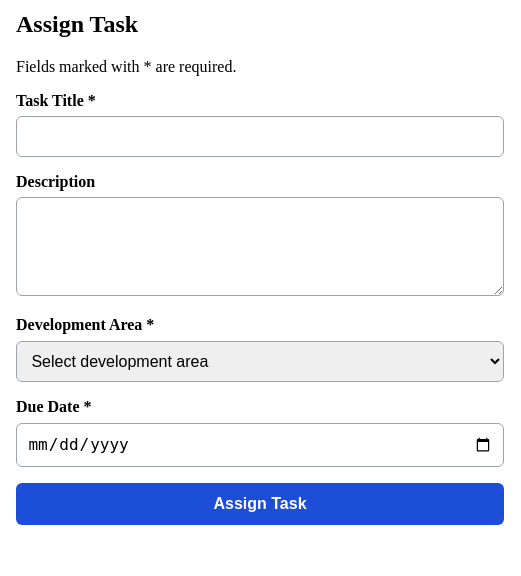
TaskForm › shows a server error for HTTP 500
Type "Read a book" into the field labelled "Task Title *" at (260, 137), box [16,116,504,157]
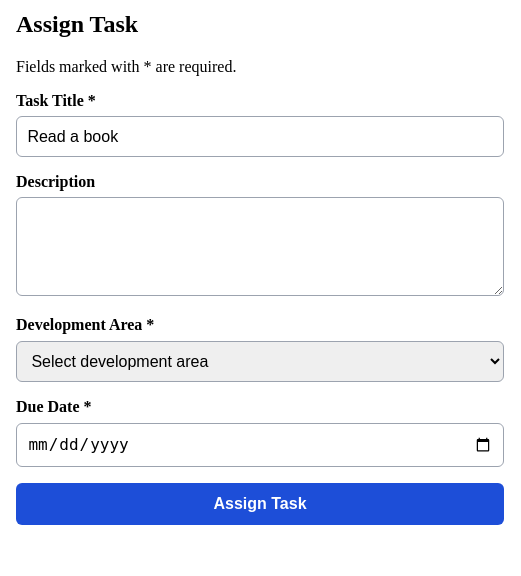
Type "Read for 15 minutes" into the text box labelled "Description" at (260, 247), box [16,197,504,296]
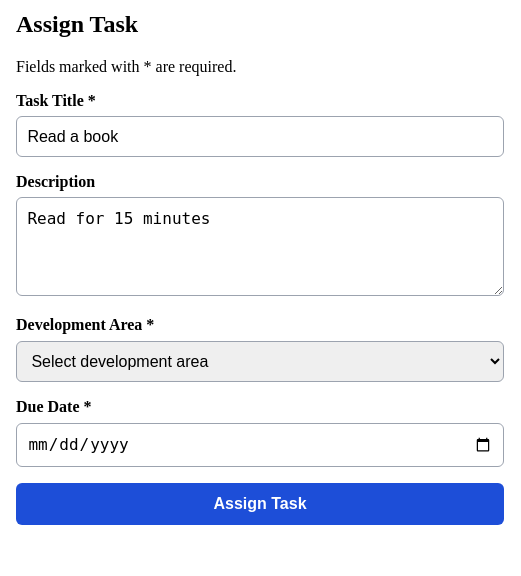
Select "Language" in the dropdown labelled "Development Area *" at (260, 361), box [16,340,504,382]
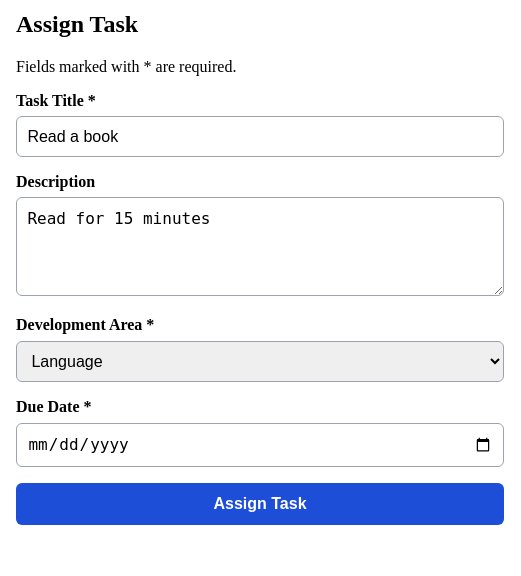
Type "2026-12-01" into the date field labelled "Due Date *" at (260, 445), box [16,423,504,466]
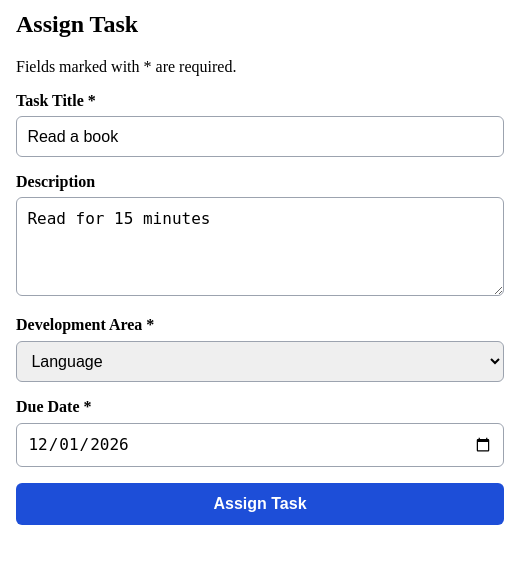
Click the button "Assign Task" at (260, 504), box [16,482,504,524]
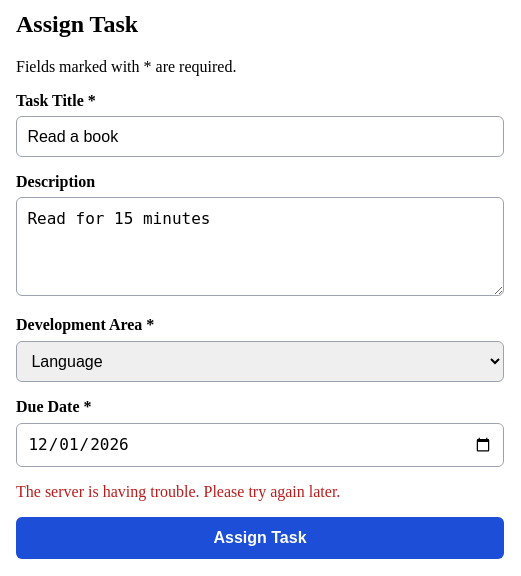
Now the message reads "The server is having trouble. Please try again later.", box [16,482,340,500]
